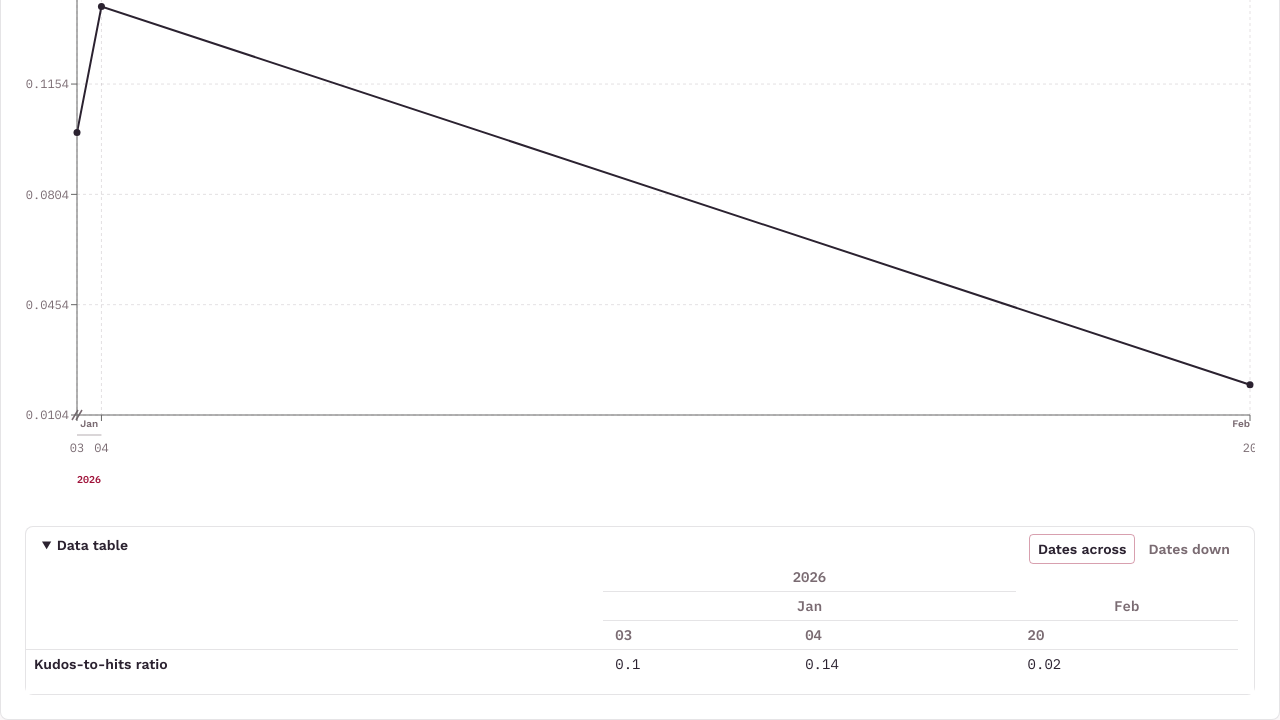
Test case: RatioChart: D6 uniform delta coloring, including the ratio itself › shows a -delta for a ratio decrease, colored by the same down rule as any other metric (D6, no ratio exception)
(page scrolled)
Click the button "04". click: (814, 635)
box: x1=805 y1=625 x2=822 y2=645
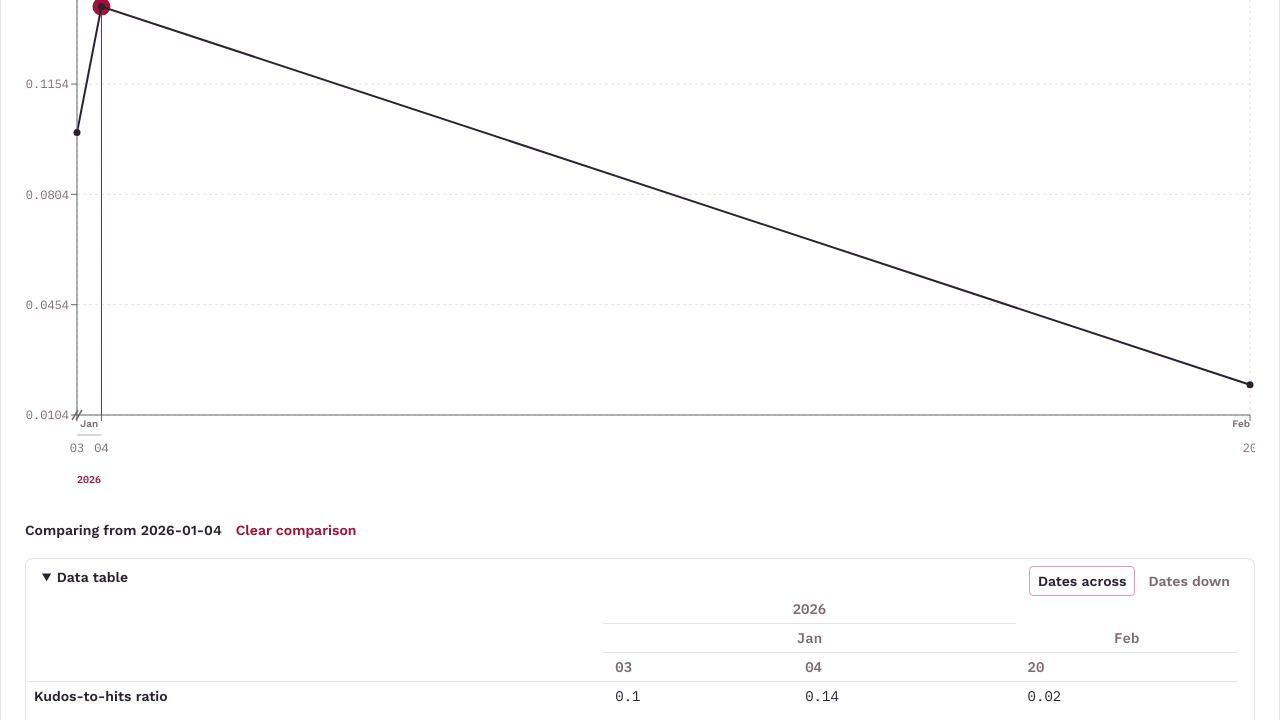
Hover over the column heading named "2026-02-20" at (1127, 667), box x1=1016 y1=652 x2=1238 y2=682
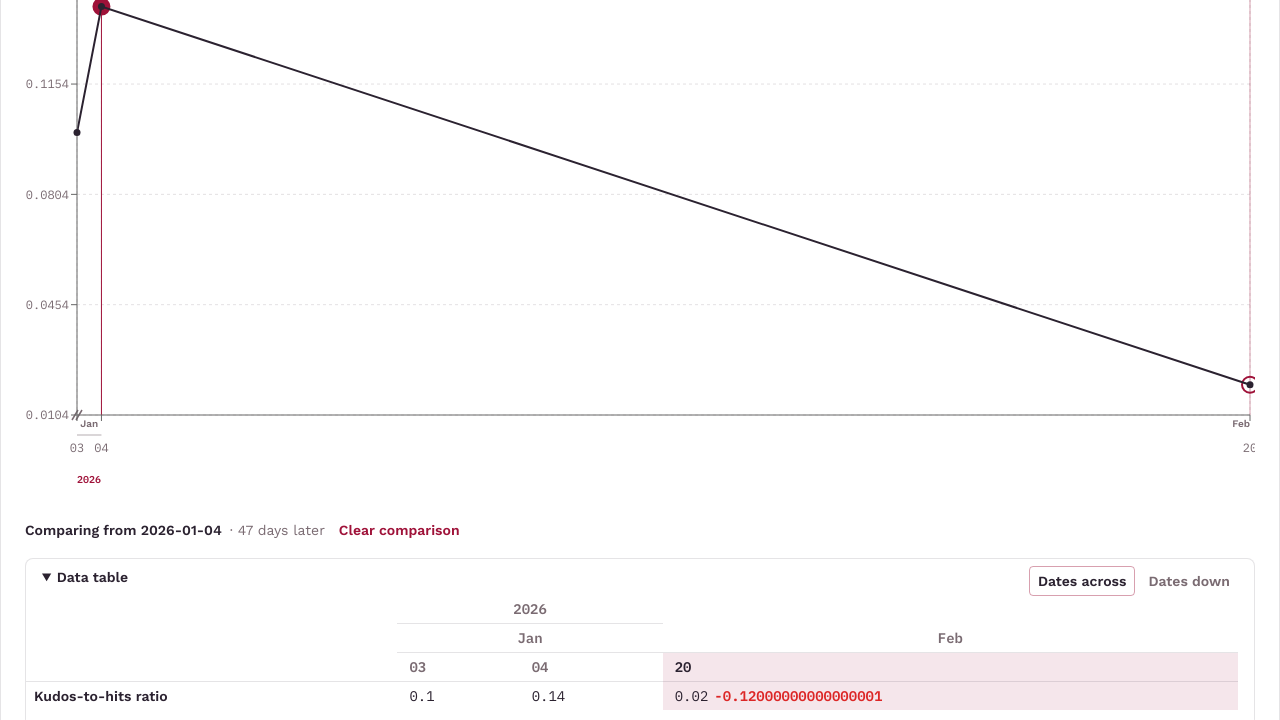
Now the text with test id "delta-chip" reads "-0.12000000000000001", box x1=714 y1=687 x2=882 y2=705
